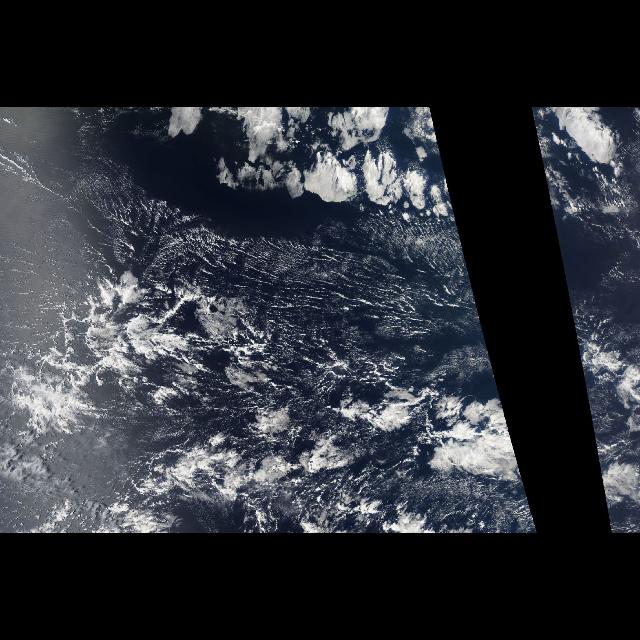Fish: (11, 270, 257, 428)
Gravel: (158, 211, 418, 353)
